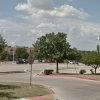Tree: (33, 30, 79, 68)
